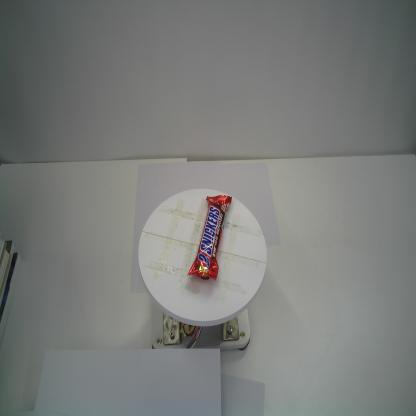Chocolate: (186, 195, 233, 280)
